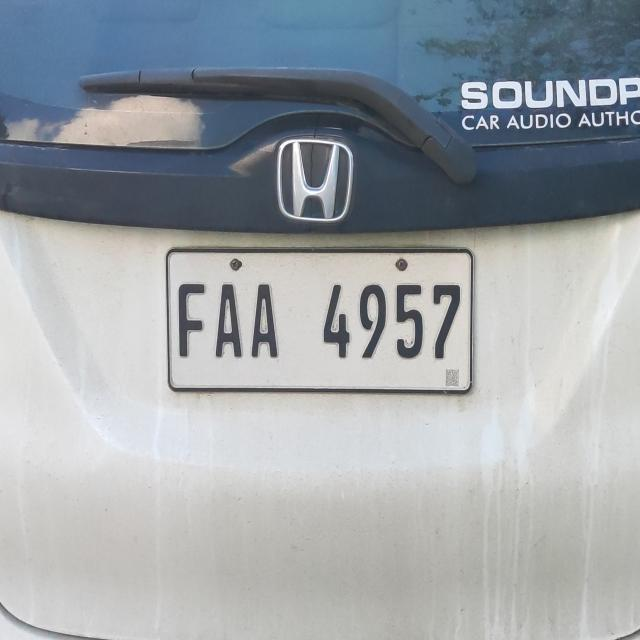plate: (160, 240, 480, 400)
